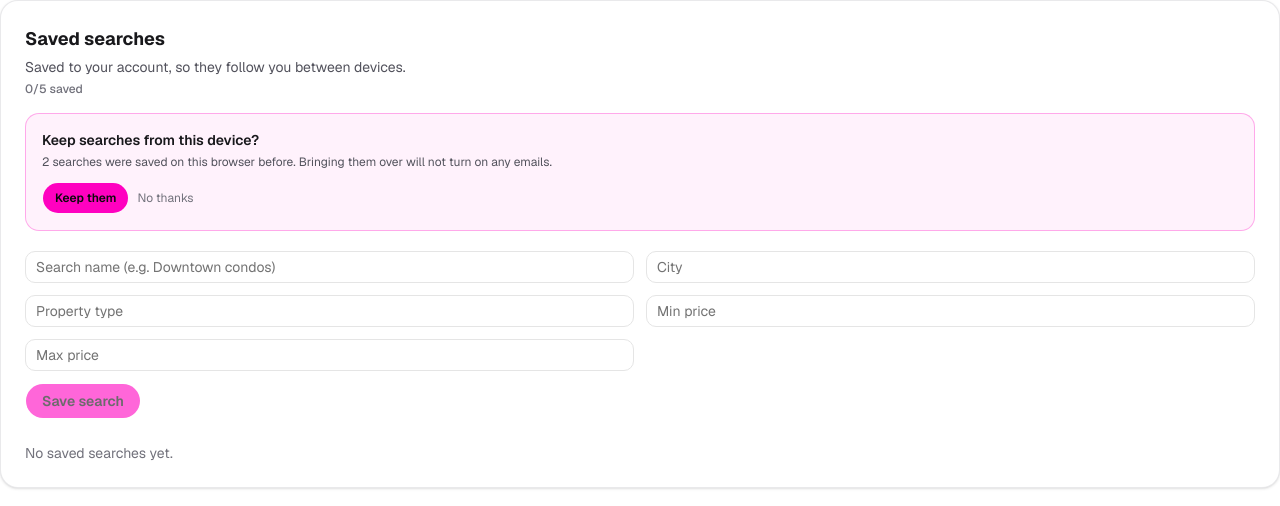
Test: an import reports what did not fit, by name
The width and height of the screenshot is (1280, 506).
Click the button "Keep them" at (86, 198), box [42, 182, 129, 214]
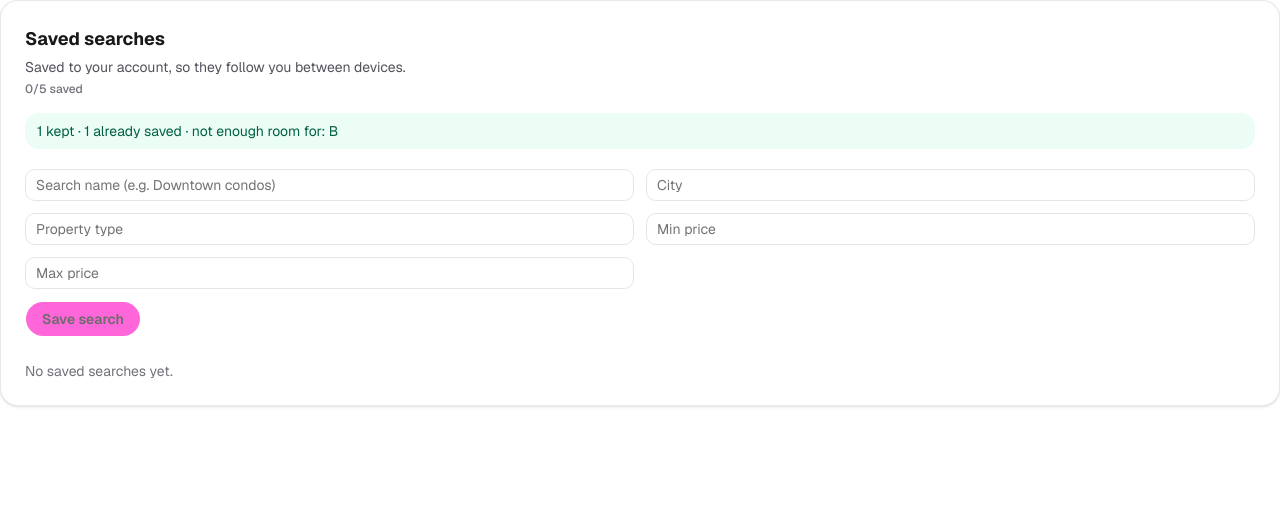
expect the message "1 kept · 1 already saved · not enough room for: B" is shown: met, box [25, 113, 1255, 149]
expect the message shows "1 kept": met, box [37, 122, 338, 140]
expect the message shows "1 already saved": met, box [37, 122, 338, 140]
